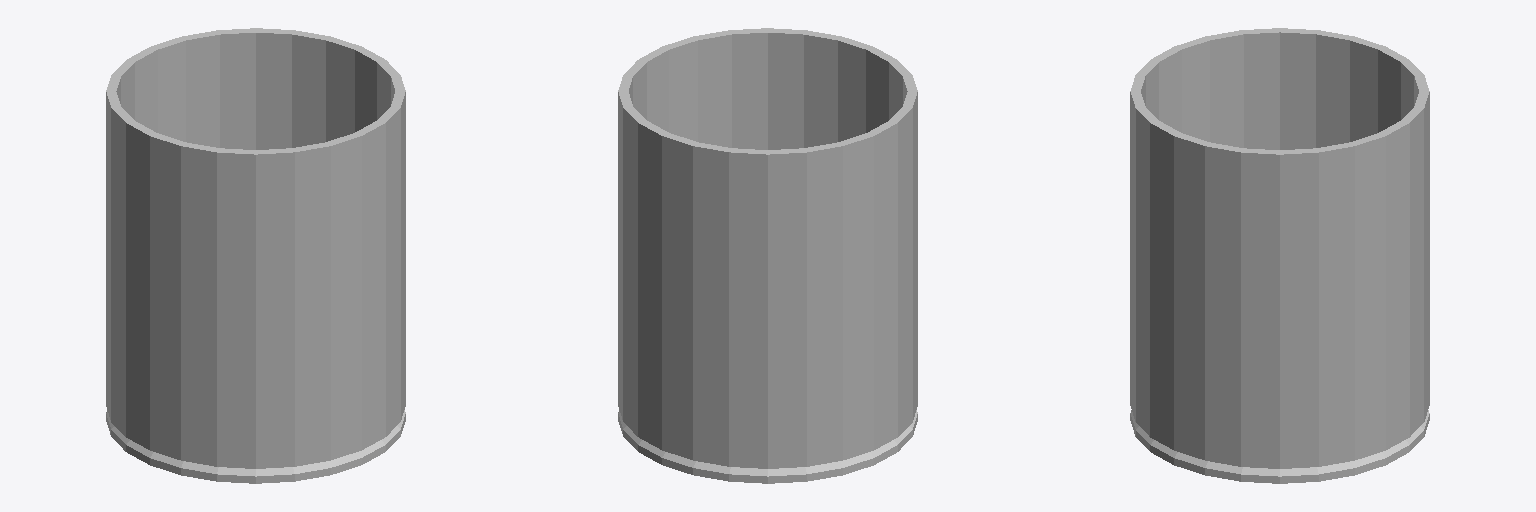
File: BathroomBin.obj
The picture shows the model from 3 angles: view 1: azimuth 30°, elevation 25°; view 2: azimuth 150°, elevation 25°; view 3: azimuth 270°, elevation 25°; orthographic projection.
Parts seen in each view (by area): view 1: SM_Bin; view 2: SM_Bin; view 3: SM_Bin.
Boxes of the visible parts, box(x1,y1,x2,y2) form: SM_Bin: box(106, 28, 405, 483); SM_Bin: box(618, 28, 917, 483); SM_Bin: box(1130, 28, 1429, 483).
Bounding box in the file's own units: 0.1855 × 0.2249 × 0.1852.